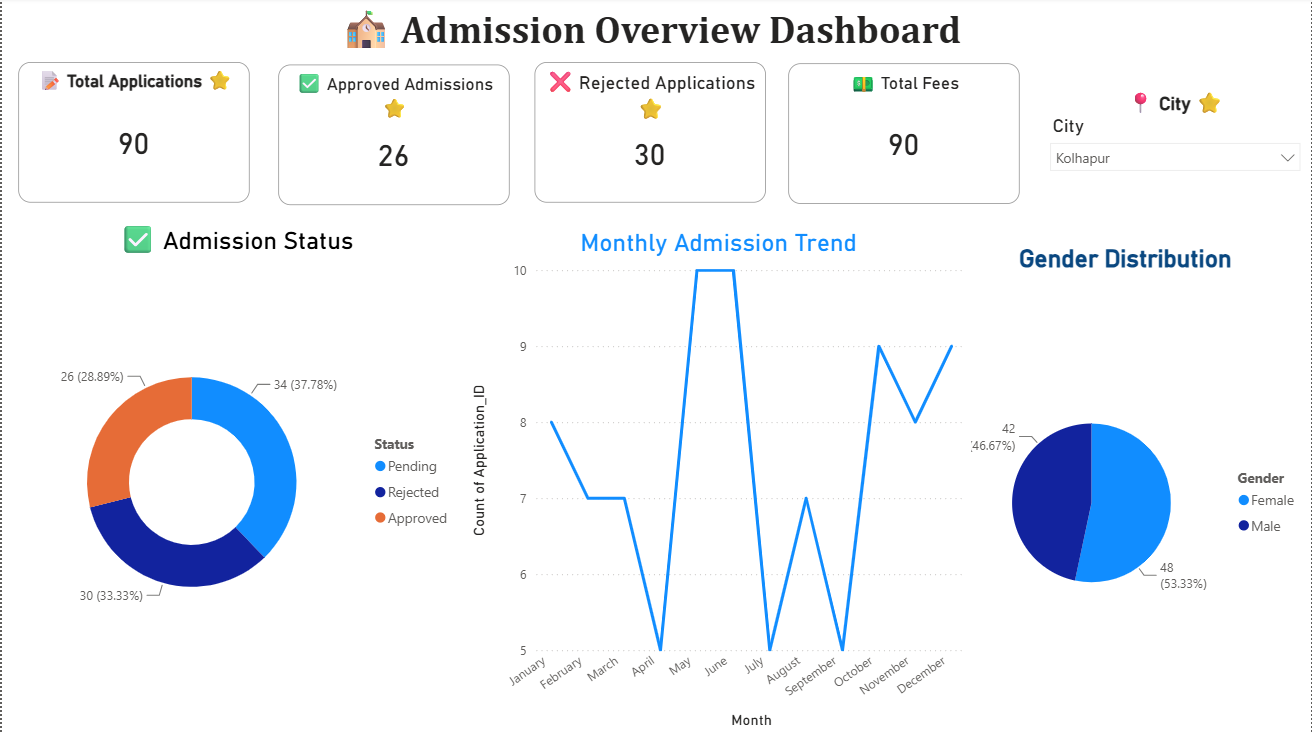

What the dashboard file says about the page in this screenshot:
{"tool":"powerbi","page":{"name":"Admission Overview Dashboard","canvas":[1280,720],"ordinal":1},"visuals":[{"type":"pieChart","title":"Gender Distribution","fields":{"Category":["Table2.Gender"],"Y":["CountNonNull(Table2.Application_ID)"]},"box":[918.4,242.1,361.3,478.8],"z":0},{"type":"donutChart","title":"✅ Admission Status","fields":{"Category":["Table2.Status"],"Y":["CountNonNull(Table2.Application_ID)"]},"box":[0,215.4,453.8,493],"z":1000},{"type":"lineChart","title":"Monthly Admission Trend","fields":{"Category":["Table2.Admission_Date.Variation.Date Hierarchy.Month"],"Y":["CountNonNull(Table2.Application_ID)"]},"box":[453.8,226,494.8,494.8],"z":2000},{"type":"textbox","box":[0,0,1269,78.3],"z":3000},{"type":"card","title":"📝 Total Applications ⭐","fields":{"Values":["Maharashtra_College_Admissions.Total Applications"]},"box":[16,64.1,226,137.4],"z":4000},{"type":"card","title":"✅ Approved Admissions ⭐","fields":{"Values":["Maharashtra_College_Admissions.Approved Applications"]},"box":[270.5,65.9,226,137.4],"z":5000},{"type":"card","title":"❌ Rejected Applications ⭐","fields":{"Values":["Maharashtra_College_Admissions.Rejected Applications"]},"box":[521.5,64.1,226,137.4],"z":6000},{"type":"card","title":"💵 Total Fees","fields":{"Values":["Maharashtra_College_Admissions.Total Applications"]},"box":[769,64.9,226,137.4],"z":7000},{"type":"slicer","title":"📍 City ⭐","fields":{"Values":["Table2.City"]},"box":[1014.5,89,265.2,137],"z":8000}]}

Visuals, with their boxes in screenshot pixels (x1, y1, x2, y2), scaled from the page's 1280x720 canvas onto the 1312x733 screenshot:
"Gender Distribution" pieChart: <region>941, 246, 1311, 732</region>
"✅ Admission Status" donutChart: <region>0, 219, 465, 721</region>
"Monthly Admission Trend" lineChart: <region>465, 230, 972, 732</region>
textbox: <region>0, 0, 1301, 80</region>
"📝 Total Applications ⭐" card: <region>16, 65, 248, 205</region>
"✅ Approved Admissions ⭐" card: <region>277, 67, 509, 207</region>
"❌ Rejected Applications ⭐" card: <region>535, 65, 766, 205</region>
"💵 Total Fees" card: <region>788, 66, 1020, 206</region>
"📍 City ⭐" slicer: <region>1040, 91, 1311, 230</region>
